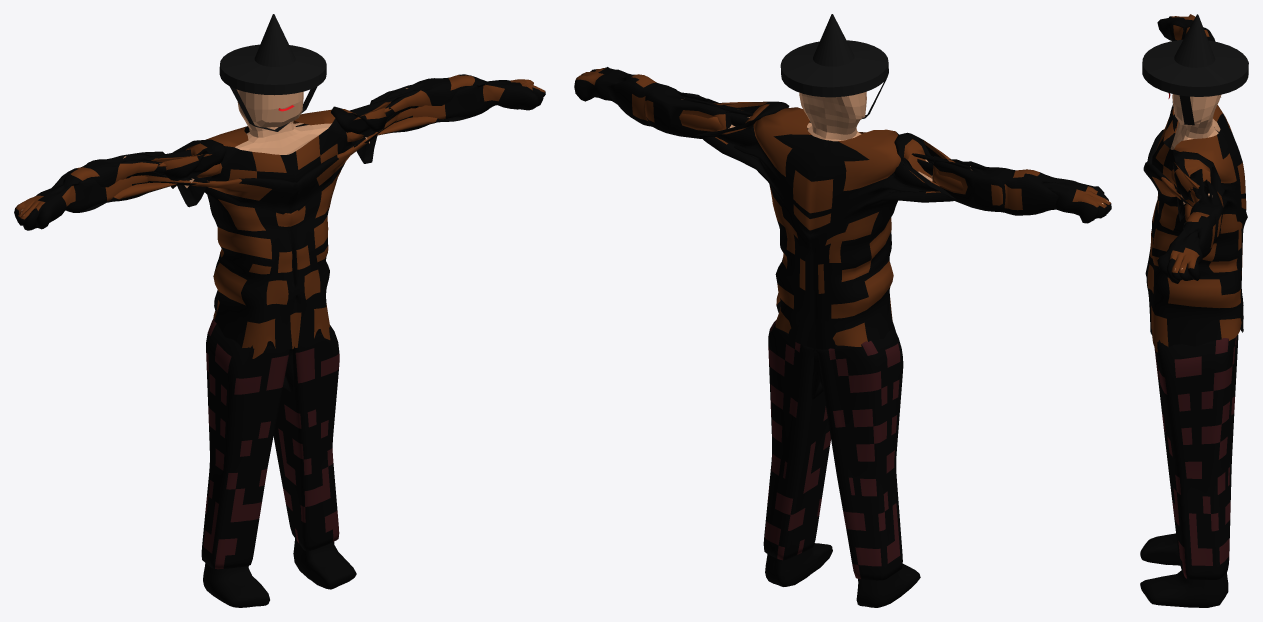
Rendered from tower2_novovek.fbx.
3 renders of one model, left to right at view 1: azimuth 30°, elevation 25°; view 2: azimuth 150°, elevation 25°; view 3: azimuth 270°, elevation 25°, orthographic.
Parts seen in each view (by area): view 1: kabat, kalhoty, Cylinder, boty, telo; view 2: kabat, kalhoty, Cylinder, boty, telo; view 3: kabat, kalhoty, Cylinder, boty, telo.
Part boxes in pixels (box(x1,y1,x2,y2)): kabat: box(14, 74, 545, 358); kalhoty: box(201, 318, 339, 569); Cylinder: box(219, 14, 326, 131); boty: box(203, 538, 356, 607); telo: box(235, 89, 331, 154); kabat: box(574, 67, 1111, 349); kalhoty: box(763, 320, 903, 580); Cylinder: box(780, 14, 888, 119); boty: box(765, 543, 920, 607); telo: box(799, 91, 866, 141); kabat: box(1143, 14, 1247, 352); kalhoty: box(1154, 335, 1238, 579); Cylinder: box(1142, 14, 1248, 125); boty: box(1140, 533, 1228, 607); telo: box(1170, 94, 1221, 149).
Size of the model in its own units: 352 by 363 by 62.9.
